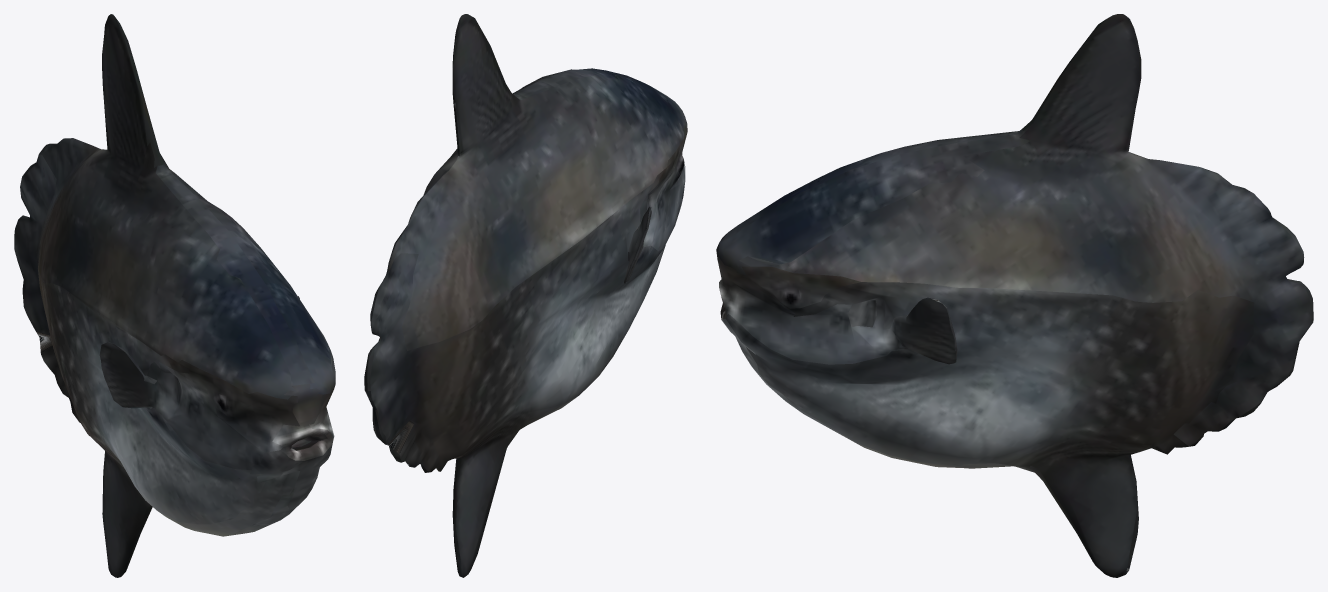
File: 21_ocean_sunfish.glb
3 renders of one model, left to right at view 1: azimuth 30°, elevation 25°; view 2: azimuth 150°, elevation 25°; view 3: azimuth 270°, elevation 25°, orthographic.
Visible parts, largest first — view 1: geometry_0; view 2: geometry_0; view 3: geometry_0.
Boxes of the visible parts, bbox=[...] form: geometry_0: bbox=[14, 14, 335, 577]; geometry_0: bbox=[364, 14, 687, 577]; geometry_0: bbox=[716, 14, 1313, 577].
Bounding box in the file's own units: 0.3672 × 1 × 0.9624.
1 material, 1 textured.
